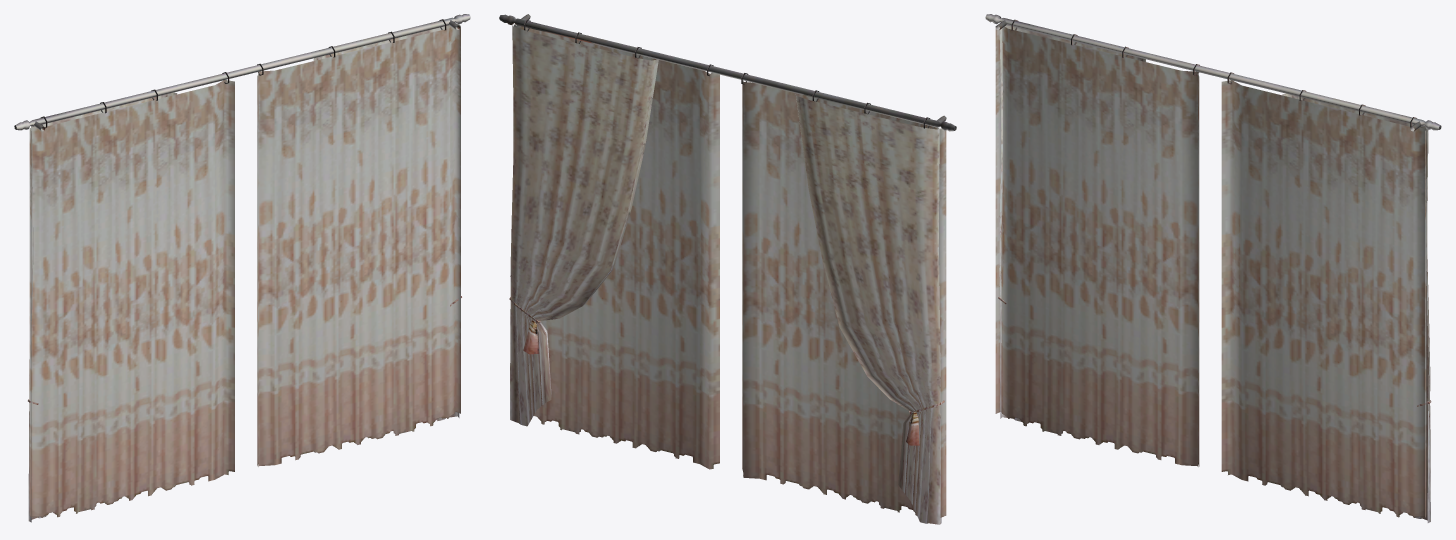
Rendered from furni_0200478.FBX.
3 renders of one model, left to right at view 1: azimuth 30°, elevation 25°; view 2: azimuth 150°, elevation 25°; view 3: azimuth 330°, elevation 25°, orthographic.
Parts seen in each view (by area): view 1: furni_0200478; view 2: furni_0200478; view 3: furni_0200478.
Part boxes in pixels (x1=…): furni_0200478: x1=14, y1=14, x2=470, y2=522; furni_0200478: x1=499, y1=14, x2=956, y2=524; furni_0200478: x1=985, y1=14, x2=1441, y2=522.
Size of the model in its own units: 329 by 280 by 21.29.
Materials: 2 (2 with a texture image).
